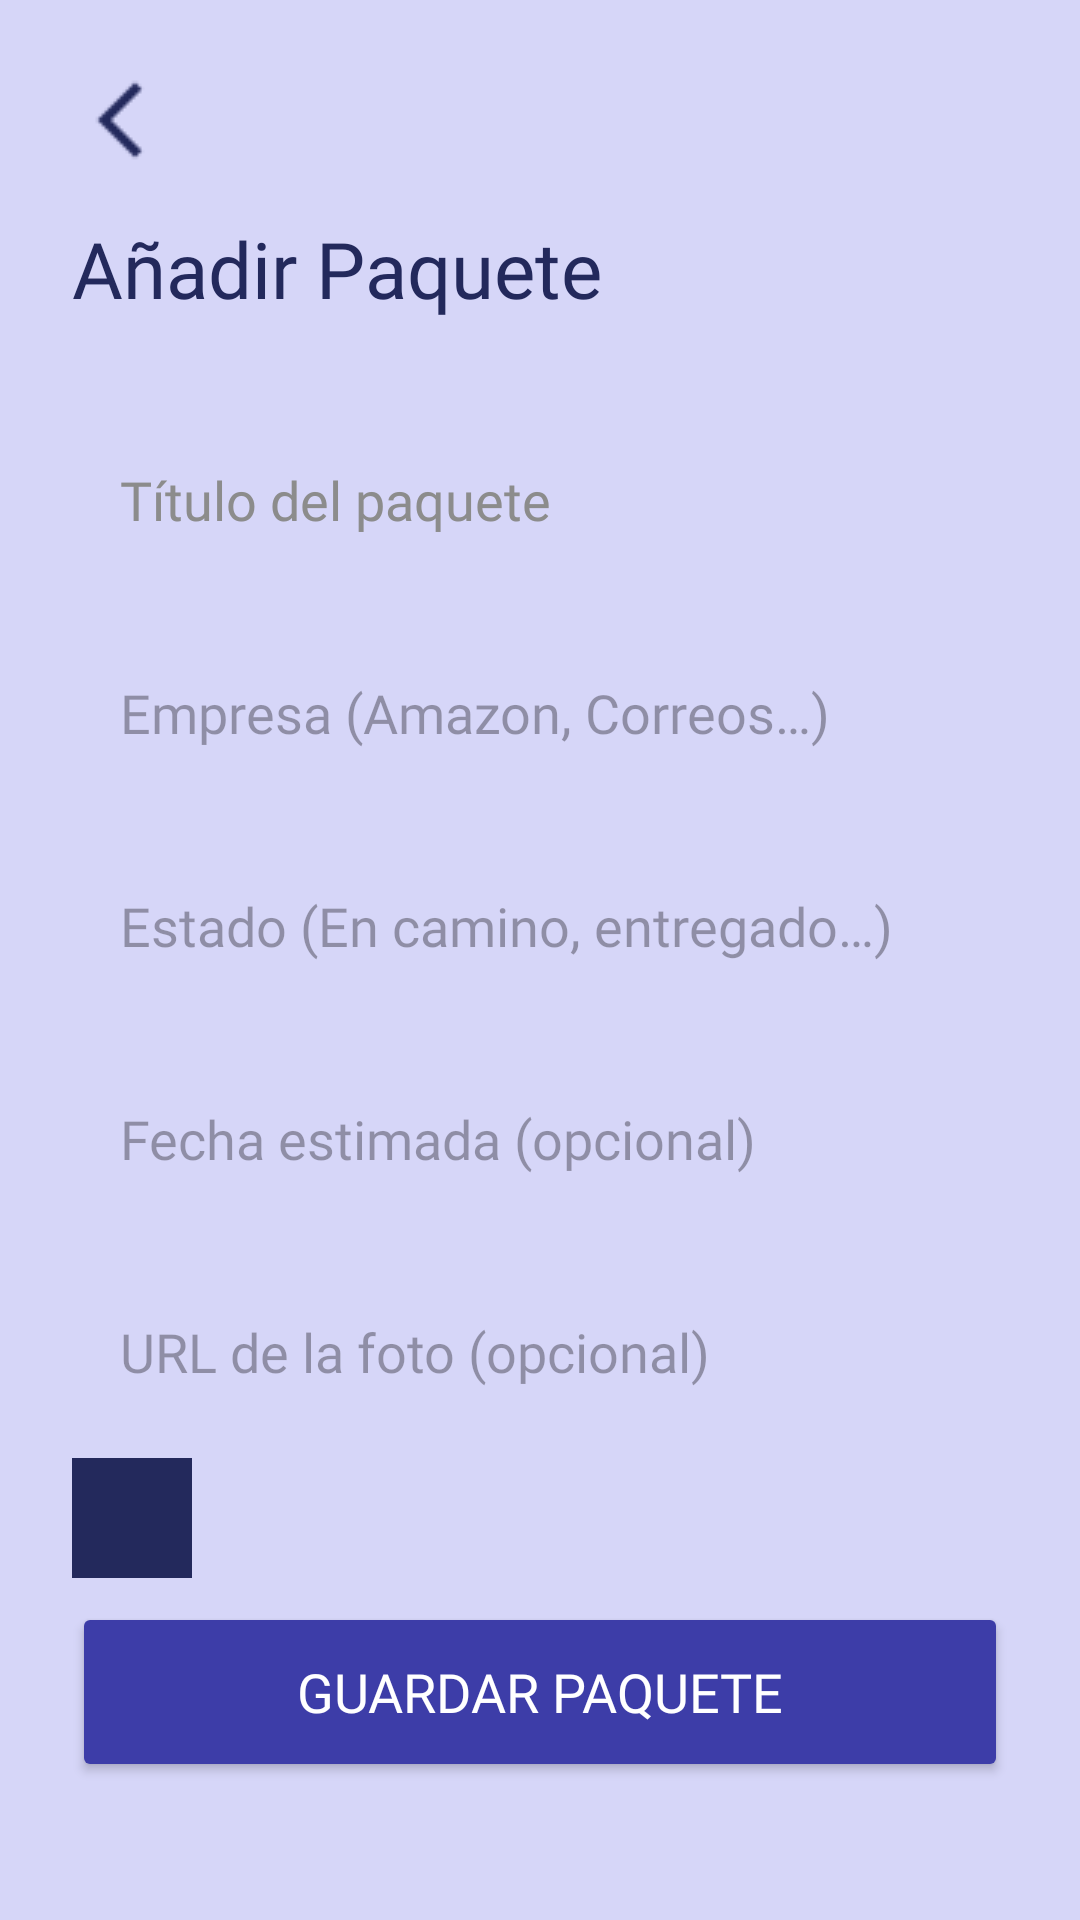

Named icons in this screenshot (1080px×1920px) and their centers, [x,y]:
back: [120,120]
